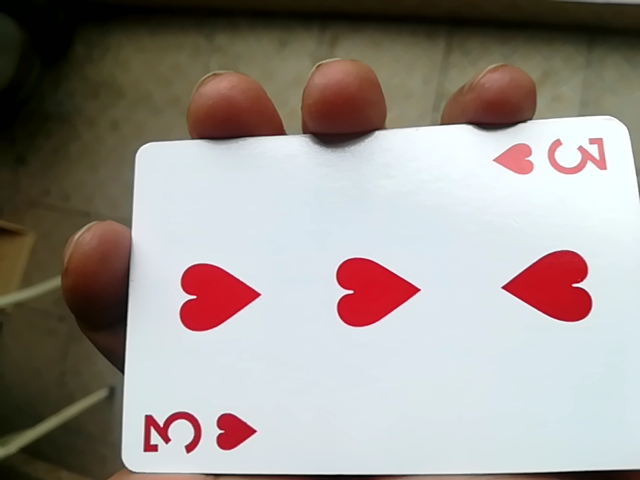hx 3: (105, 132, 632, 480)
